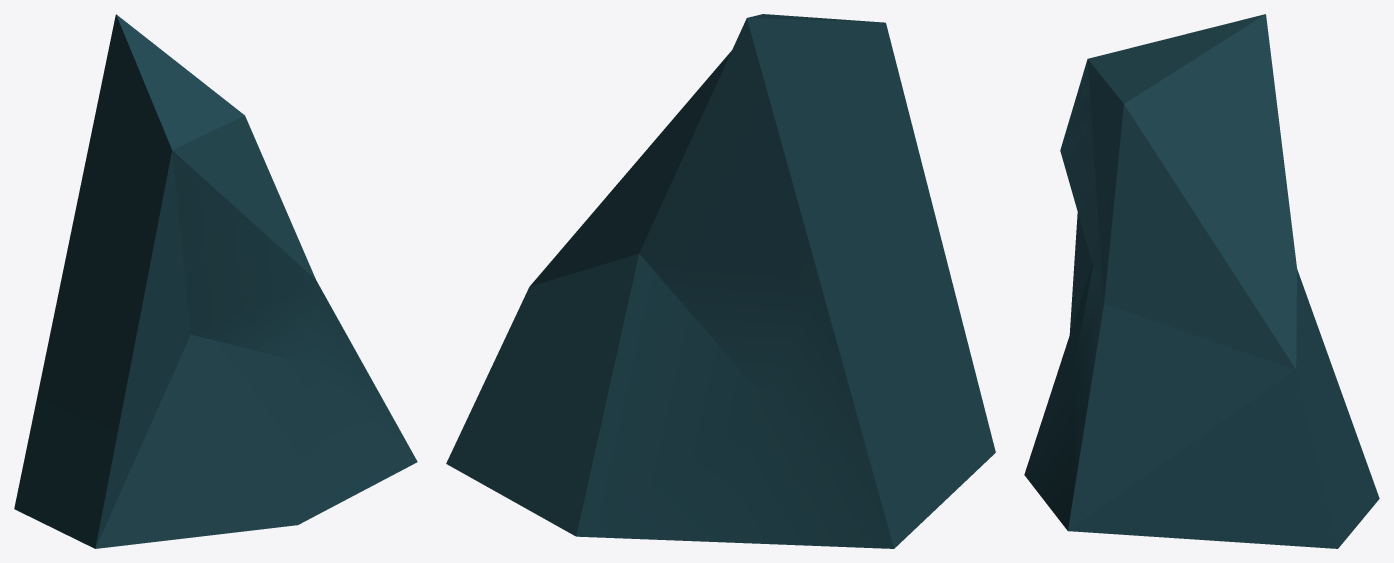
Rendered from Piedra_Chica_2_FBX.fbx.
The picture shows the model from 3 angles, left to right: view 1: azimuth 30°, elevation 25°; view 2: azimuth 150°, elevation 25°; view 3: azimuth 270°, elevation 25°; orthographic projection. The views are drawn at different scales.
Parts seen in each view (by area): view 1: Piedra_Chica_2; view 2: Piedra_Chica_2; view 3: Piedra_Chica_2.
Part boxes in pixels (x1=…): Piedra_Chica_2: x1=14, y1=14, x2=417, y2=548; Piedra_Chica_2: x1=446, y1=14, x2=995, y2=548; Piedra_Chica_2: x1=1024, y1=14, x2=1379, y2=548.
Bounding box in the file's own units: 4.51 × 5.57 × 3.98.
